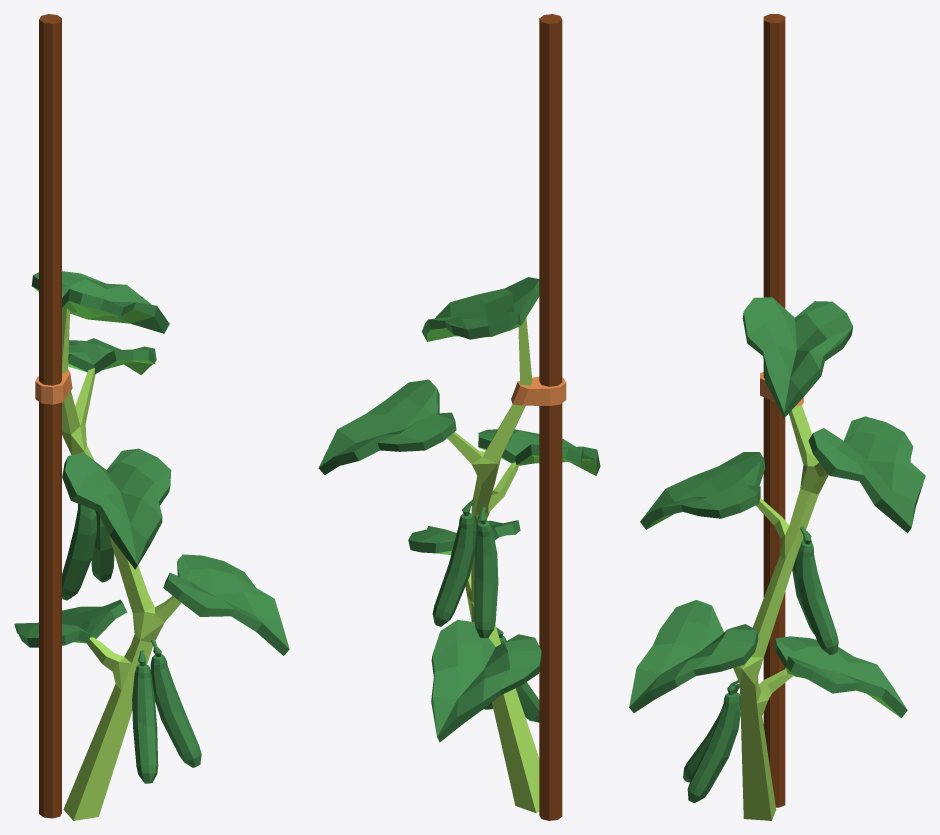
File: Cucumber_Growing_M.fbx
The picture shows the model from 3 angles, left to right: view 1: azimuth 30°, elevation 25°; view 2: azimuth 150°, elevation 25°; view 3: azimuth 270°, elevation 25°; orthographic projection.
Visible parts, largest first — view 1: Cucumber_Growing_M, Cucumber_Young_01, Cucumber_Young_02, Cucumber_Young_04, Cucumber_Young_03; view 2: Cucumber_Growing_M, Cucumber_Young_04, Cucumber_Young_03, Cucumber_Young_02; view 3: Cucumber_Growing_M, Cucumber_Young_01, Cucumber_Young_03, Cucumber_Young_02.
Boxes of the visible parts, x1,y1,x2,y2 form: Cucumber_Growing_M: (14, 14, 289, 820); Cucumber_Young_01: (150, 652, 201, 767); Cucumber_Young_02: (132, 661, 158, 783); Cucumber_Young_04: (62, 504, 96, 600); Cucumber_Young_03: (91, 510, 114, 582); Cucumber_Growing_M: (318, 14, 600, 820); Cucumber_Young_04: (474, 519, 498, 638); Cucumber_Young_03: (432, 510, 476, 626); Cucumber_Young_02: (498, 633, 539, 722); Cucumber_Growing_M: (629, 14, 925, 820); Cucumber_Young_01: (687, 689, 740, 802); Cucumber_Young_03: (796, 539, 838, 654); Cucumber_Young_02: (683, 690, 740, 782).
Bounding box in the file's own units: 11.97 × 48.97 × 16.79.
